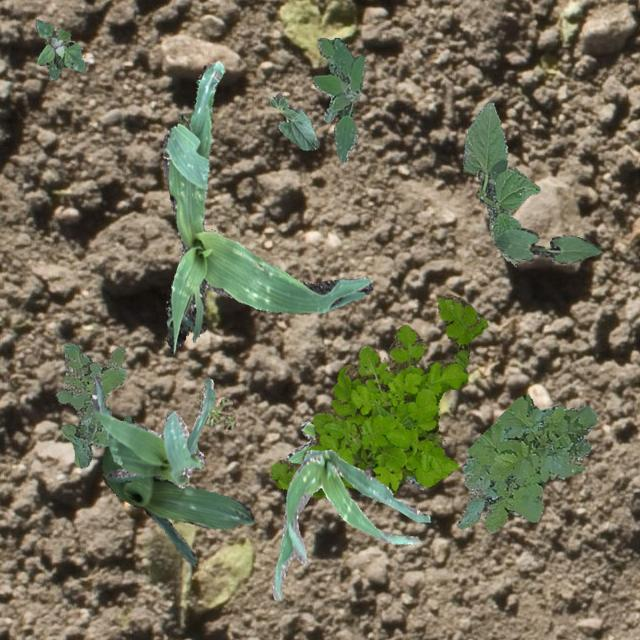crop: (162, 61, 372, 350), (272, 448, 429, 600), (100, 414, 252, 566), (90, 374, 214, 486), (460, 102, 540, 264), (282, 420, 419, 486), (492, 226, 602, 262), (268, 92, 318, 148)
weed: (268, 294, 486, 496), (456, 392, 596, 532), (56, 342, 126, 467), (312, 36, 364, 162), (34, 19, 84, 80), (196, 386, 233, 432)
